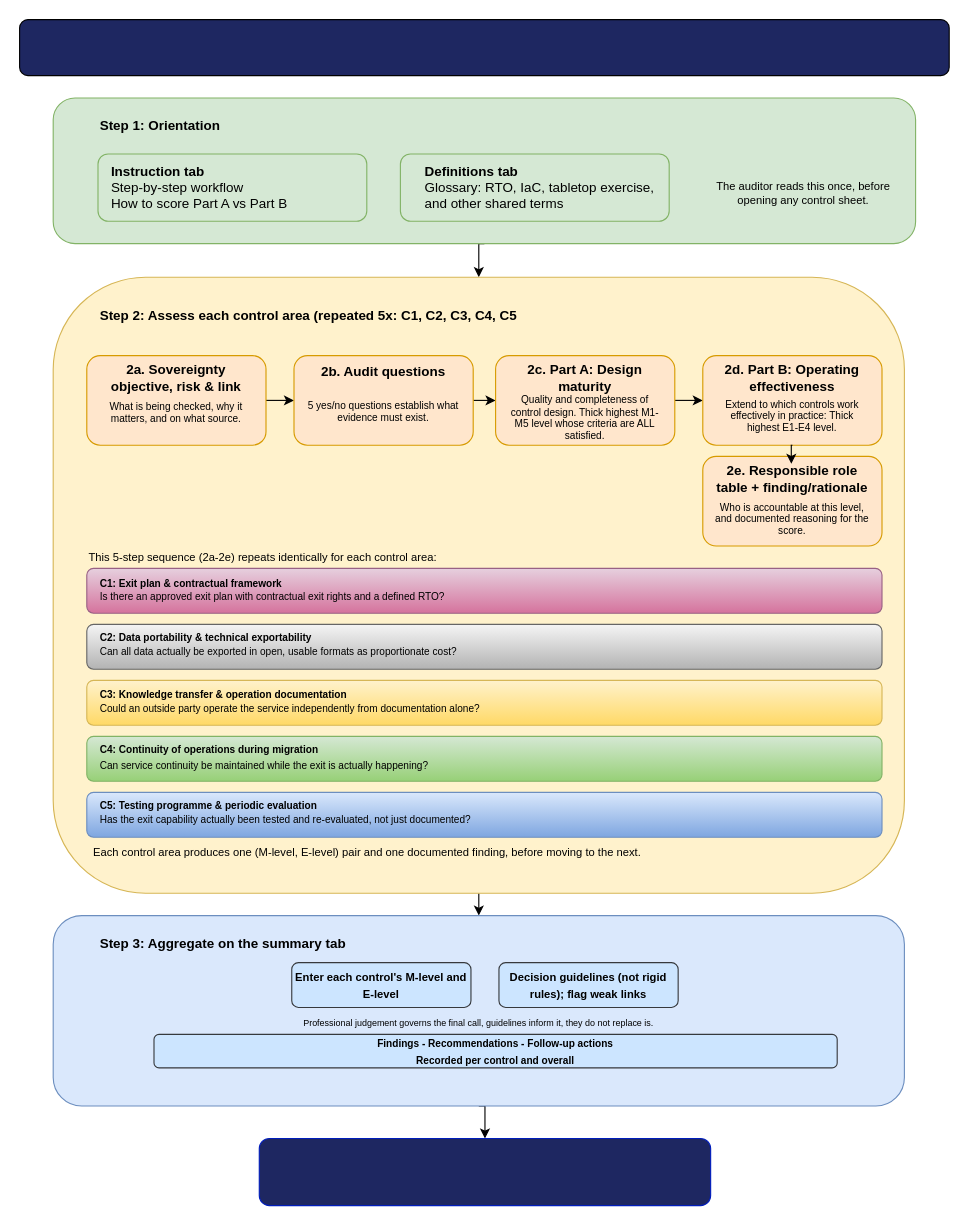
Some shapes in this 969 by 1225 pixel diagram are drawn without their labels. The shapes that lost their labels are listed below. From the top down, each one's centre as x and y in pixels, then its label:
At (x=483, y=47): "Digital Sovereignty Audit Framework (DSAF) – Operational Reversibility".
At (x=484, y=1171): "Step 4: Overall audit conclusion".
